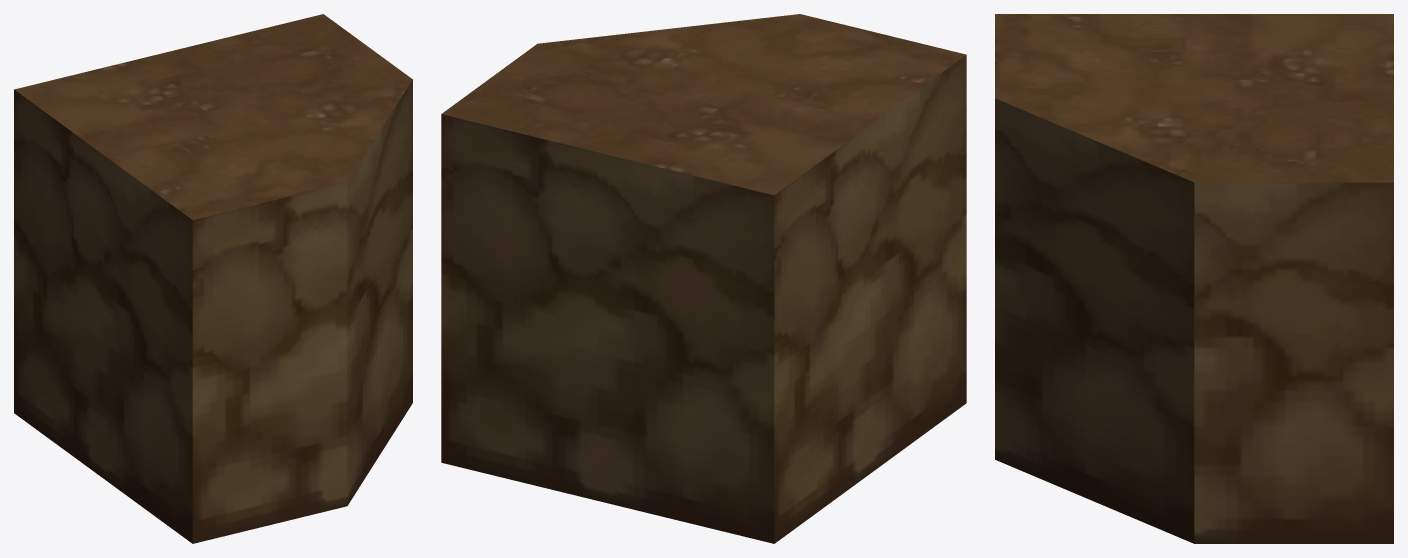
The model's file is Dirt_03.fbx.
3 renders of one model, left to right at view 1: azimuth 30°, elevation 25°; view 2: azimuth 150°, elevation 25°; view 3: azimuth 270°, elevation 25°, orthographic. The views are drawn at different scales.
Parts seen in each view (by area): view 1: Dirt_03_export; view 2: Dirt_03_export; view 3: Dirt_03_export.
Part boxes in pixels (left/top/right/bottom): Dirt_03_export: left=14, top=14, right=412, bottom=543; Dirt_03_export: left=441, top=14, right=966, bottom=543; Dirt_03_export: left=995, top=14, right=1393, bottom=543.
Size of the model in its own units: 100 by 100 by 100.
